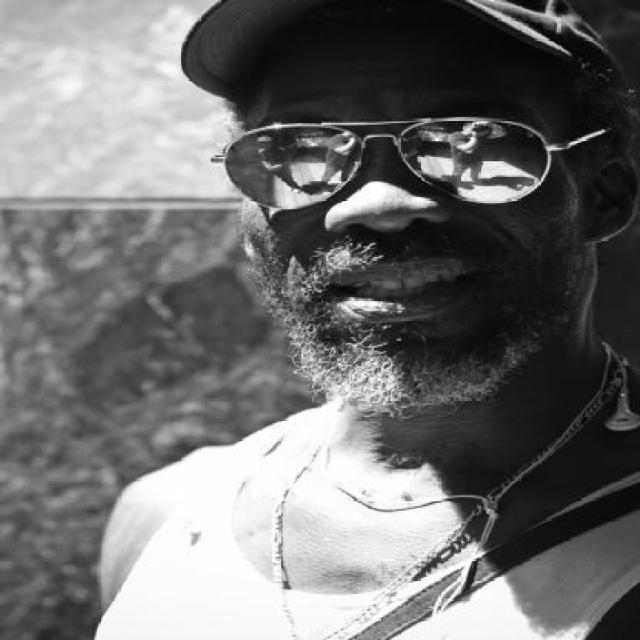face_nomask: (238, 110, 552, 345)
glasses: (208, 107, 568, 196)
